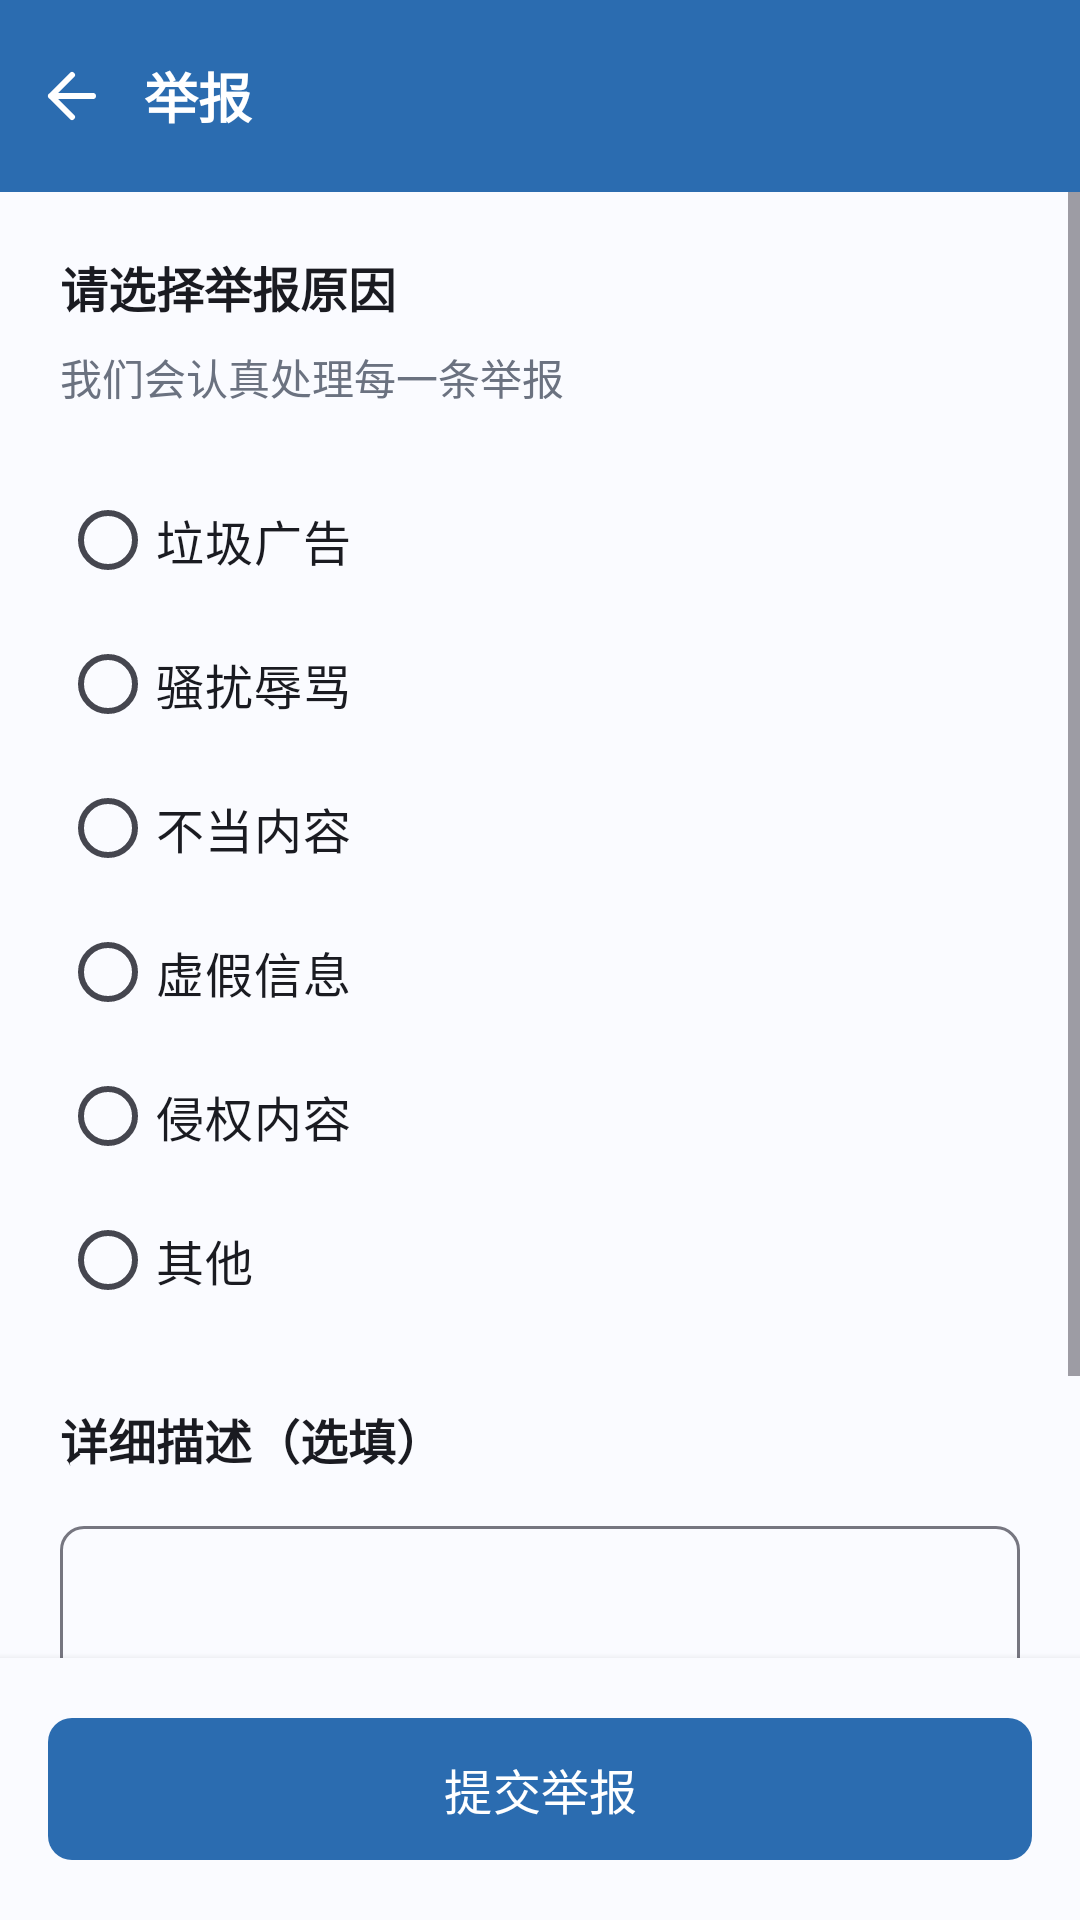

Named icons in this screenshot (1080px×1920px) and their bounding boxes, (x1,y1,x2,y2):
返回: (48,72,96,120)
